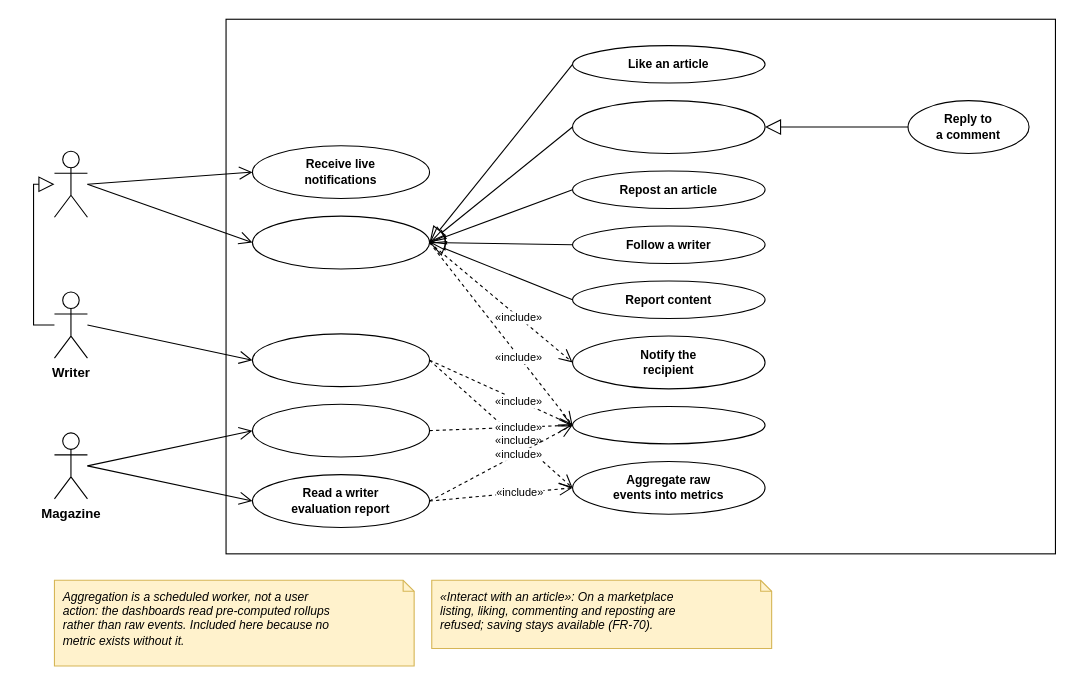
This 1075x685 diagram has some shape labels left out. The centre of each missing label's shape, as x and y in pixels:
"Browse eligible writers" belongs at point (340, 430).
"Comment on an article" belongs at point (668, 126).
"Interact with an article" belongs at point (340, 242).
"Reader" belongs at point (70, 183).
"Sign in" belongs at point (668, 424).
"View article analytics" belongs at point (340, 360).
